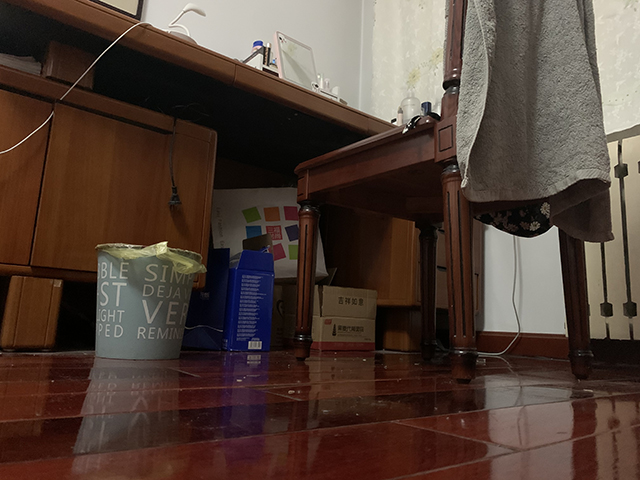stool: (292, 1, 616, 384)
table: (1, 1, 486, 357)
trashcan: (93, 240, 204, 361)
wire: (478, 235, 521, 358)
